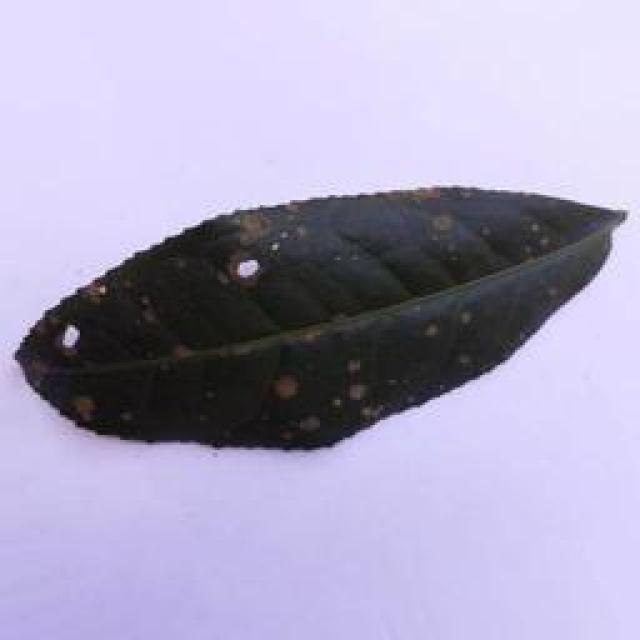Algal Leaf Spot: (10, 185, 628, 452)
